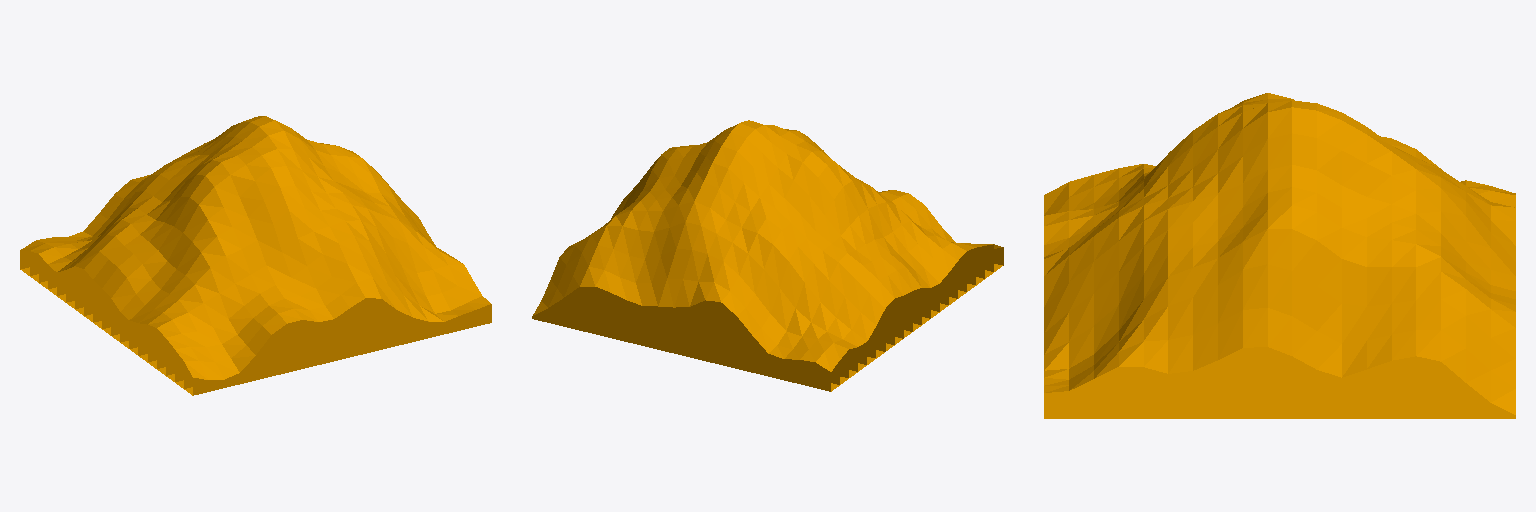
The robot description file, URDF, robot "mountain":
<?xml version="1.0"?>
<robot name="mountain">
  <link name="baseLink">
    <inertial>
      <origin xyz="0 0 0" rpy="0 0 0"/>
      <mass value="1"/>
      <inertia ixx="1" ixy="0" ixz="0" iyy="1" iyz="0" izz="1"/>
    </inertial>
    <visual>
      <origin xyz="0 0 0" rpy="0 0 0"/>
      <geometry>
        <mesh filename="gaussian_pyramid.obj" scale="1 1 1"/>
      </geometry>
    </visual>
    <collision>
      <origin xyz="0 0 0" rpy="0 0 0"/>
      <geometry>
        <mesh filename="gaussian_pyramid.obj" scale="1 1 1"/>
      </geometry>
    </collision>
  </link>
</robot>

--- What the picture shows (computed from the rendered views, not written in the file) ---
3 views of the same robot in one strip: view 1: azimuth 30°, elevation 25°; view 2: azimuth 150°, elevation 25°; view 3: azimuth 270°, elevation 25° (orthographic).
Robot: mountain — 1 links, 0 joints (none); root link baseLink; default pose: every joint at zero.
Visible links, largest first — view 1: baseLink; view 2: baseLink; view 3: baseLink.
Link boxes in pixels (x1,y1,x2,y2): baseLink: (20,116,491,395); baseLink: (532,120,1003,391); baseLink: (1044,93,1515,418).
Size in the robot's own frame: 9.5 by 9.5 by 5.08 metres.
1 mesh visuals loaded from 1 distinct referenced files (1 OBJ).